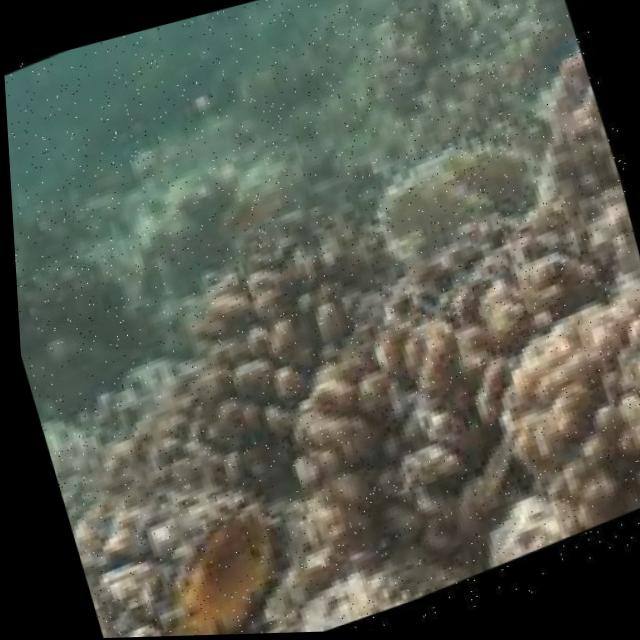Healthy Coral: (209, 207, 640, 635), (110, 214, 424, 494), (507, 42, 625, 205)
